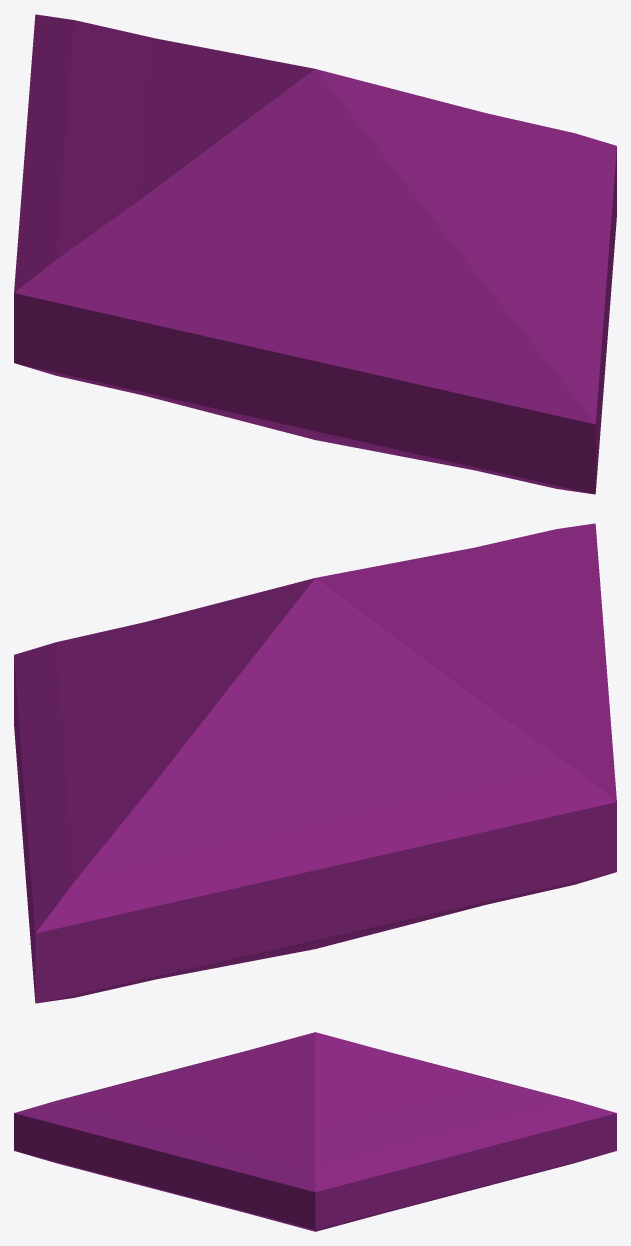
File: Gem019.fbx
3 views of the same model, one above another, from view 1: azimuth 30°, elevation 25°; view 2: azimuth 150°, elevation 25°; view 3: azimuth 270°, elevation 25° (orthographic). The views are drawn at different scales.
Visible parts, largest first — view 1: Gem019; view 2: Gem019; view 3: Gem019.
Boxes of the visible parts, x1,y1,x2,y2 form: Gem019: (14,14,616,494); Gem019: (14,523,616,1003); Gem019: (14,1032,616,1231).
Size of the model in its own units: 205 by 120 by 330.
